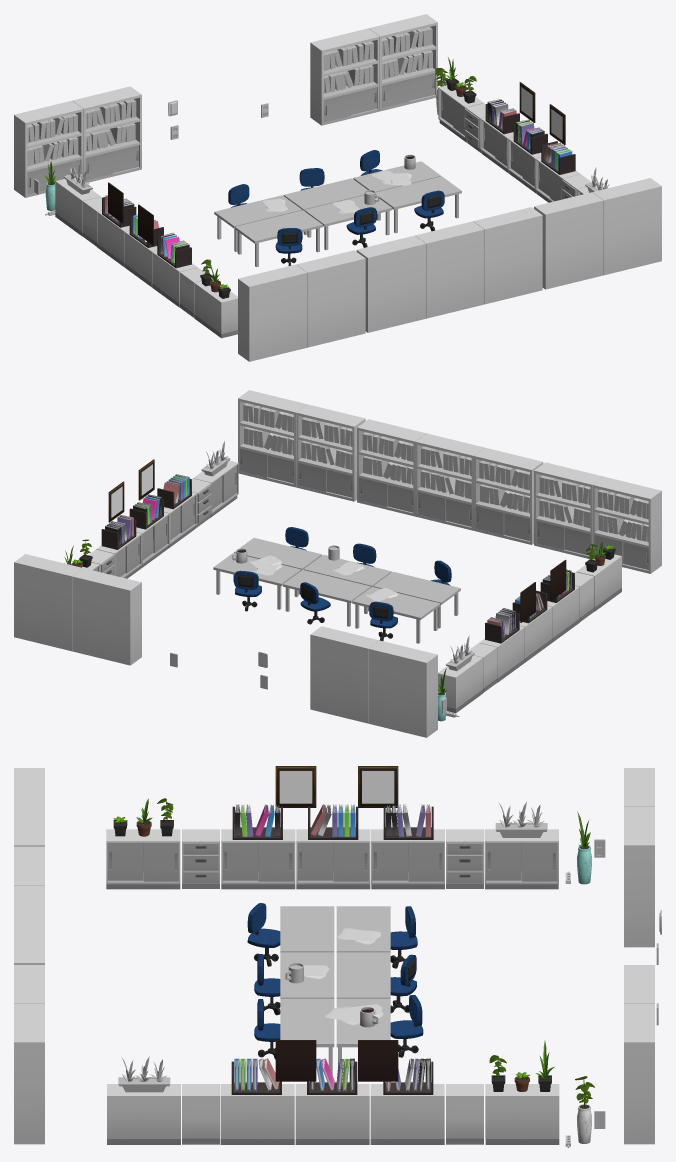
File: Room01Set0.FBX
3 views of the same model, one above another, from view 1: azimuth 30°, elevation 25°; view 2: azimuth 150°, elevation 25°; view 3: azimuth 270°, elevation 25° (orthographic). The views are drawn at different scales.
Parts seen in each view (by area): view 1: bookshelf009, bookshelf011, bookshelf013, bookshelf014, bookshelf015, bookshelf010, bookshelf012, bookshelf001, bookshelf003, bookshelf002, bookshelf, Books003 (+28 smaller); view 2: bookshelf001, bookshelf003, bookshelf002, bookshelf, bookshelf009, bookshelf011, bookshelf013, bookshelf014, bookshelf015, bookshelf012, bookshelf010, Books005 (+39 smaller); view 3: bookshelf, bookshelf002, bookshelf012, chestbox011, chestbox014, chestbox008, chestbox5, chestbox012, Box026, Box065, Box066, chestbox009 (+45 smaller).
Part boxes in pixels (x1=…): bookshelf009: x1=238, y1=264, x2=307, y2=361; bookshelf011: x1=534, y1=192, x2=603, y2=289; bookshelf013: x1=356, y1=235, x2=425, y2=332; bookshelf014: x1=415, y1=221, x2=484, y2=318; bookshelf015: x1=473, y1=207, x2=542, y2=304; bookshelf010: x1=296, y1=250, x2=365, y2=347; bookshelf012: x1=592, y1=178, x2=661, y2=275; bookshelf001: x1=310, y1=28, x2=379, y2=125; bookshelf003: x1=14, y1=100, x2=83, y2=197; bookshelf002: x1=72, y1=86, x2=141, y2=182; bookshelf: x1=369, y1=14, x2=437, y2=111; Books003: x1=27, y1=113, x2=78, y2=166; bookshelf001: x1=72, y1=568, x2=141, y2=665; bookshelf003: x1=368, y1=640, x2=437, y2=737; bookshelf002: x1=310, y1=626, x2=379, y2=723; bookshelf: x1=14, y1=554, x2=83, y2=651; bookshelf009: x1=592, y1=476, x2=661, y2=573; bookshelf011: x1=296, y1=404, x2=365, y2=501; bookshelf013: x1=473, y1=447, x2=543, y2=544; bookshelf014: x1=415, y1=433, x2=484, y2=530; bookshelf015: x1=357, y1=419, x2=426, y2=516; bookshelf012: x1=238, y1=390, x2=306, y2=487; bookshelf010: x1=534, y1=462, x2=603, y2=559; Books005: x1=539, y1=475, x2=590, y2=527; bookshelf: x1=624, y1=1003, x2=654, y2=1144; bookshelf002: x1=624, y1=806, x2=654, y2=947; bookshelf012: x1=14, y1=1003, x2=44, y2=1144; chestbox011: x1=485, y1=1084, x2=559, y2=1144; chestbox014: x1=107, y1=1084, x2=180, y2=1144; chestbox008: x1=370, y1=1084, x2=444, y2=1144; chestbox5: x1=295, y1=1084, x2=369, y2=1144; chestbox012: x1=220, y1=1084, x2=294, y2=1144; Box026: x1=336, y1=952, x2=390, y2=998; Box065: x1=280, y1=906, x2=334, y2=952; Box066: x1=280, y1=998, x2=334, y2=1074; chestbox009: x1=446, y1=1084, x2=483, y2=1144.
Size of the model in its own units: 120 by 21.97 by 119.
